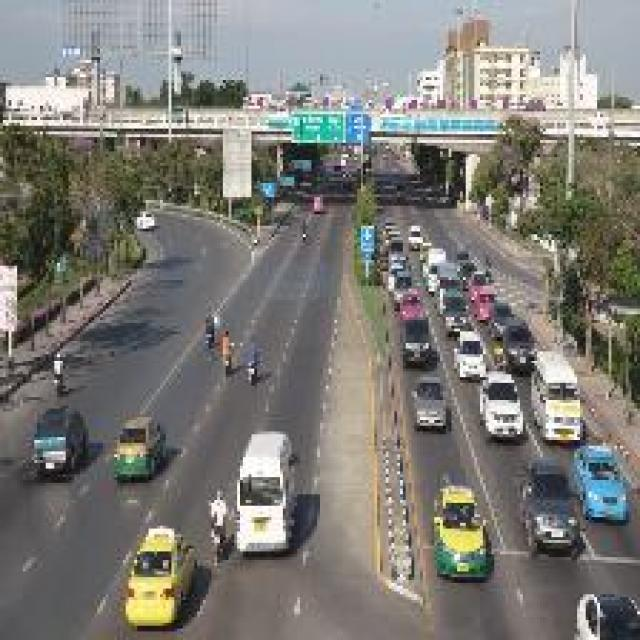other: (413, 464, 502, 584), (123, 506, 194, 612), (394, 283, 425, 323), (468, 278, 492, 319)
